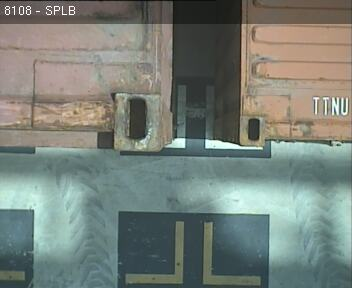groundmarker_1: (122, 220, 261, 283), (167, 86, 262, 148)
